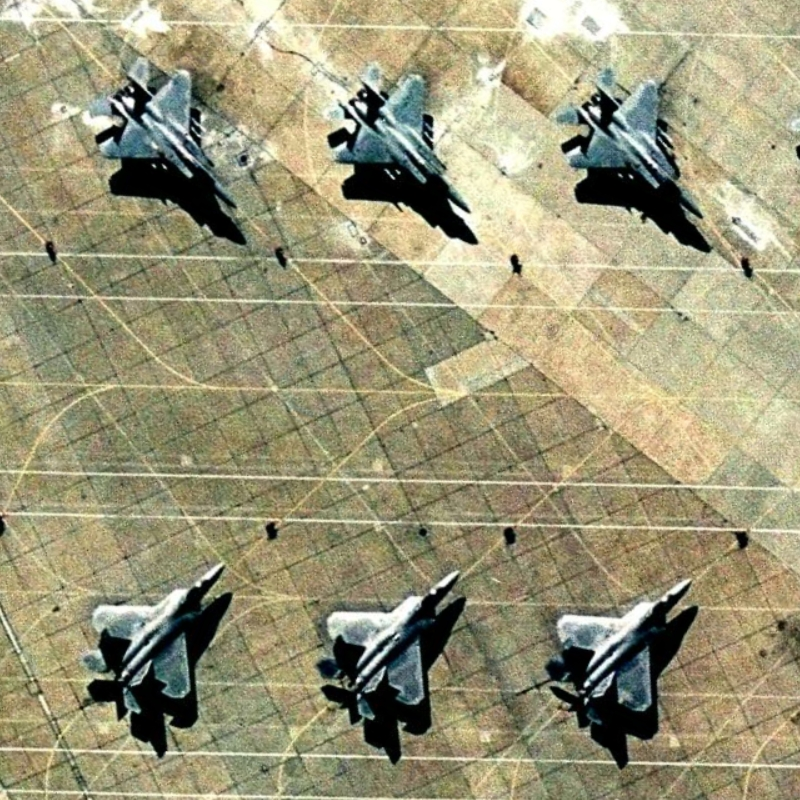A13: (76, 49, 249, 218), (544, 59, 711, 225), (313, 56, 483, 216)
A15: (76, 553, 232, 725), (312, 563, 468, 733), (548, 574, 699, 733)
